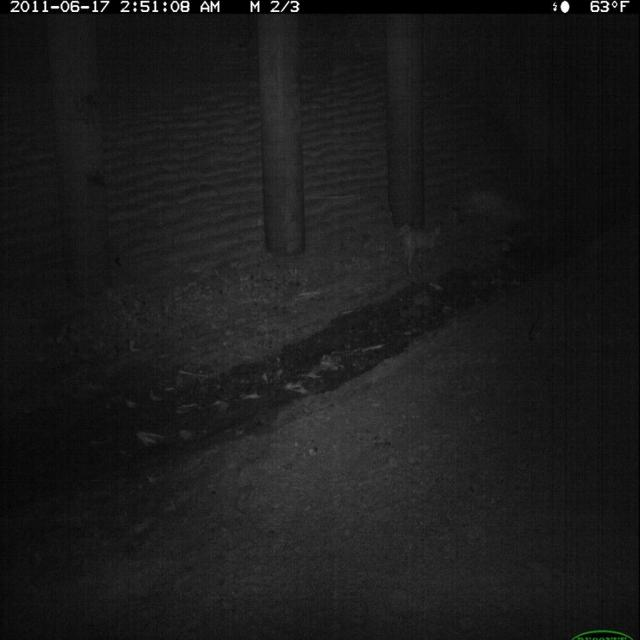bobcat: (402, 219, 446, 281)
